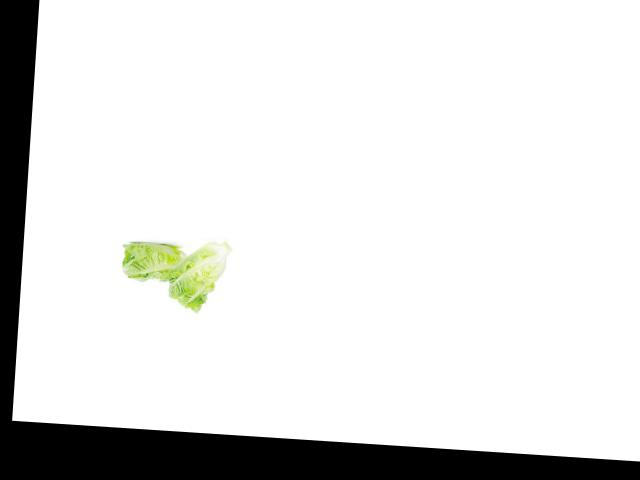lettuce: (159, 232, 234, 312)
